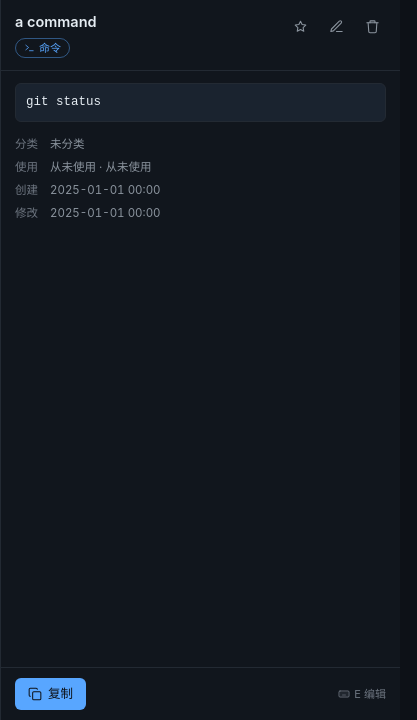
Test: ItemDetail › copies the body directly when there are no variables
This screenshot has width=417, height=720.
Click the button "复制" at (50, 694), box [15,678,86,710]
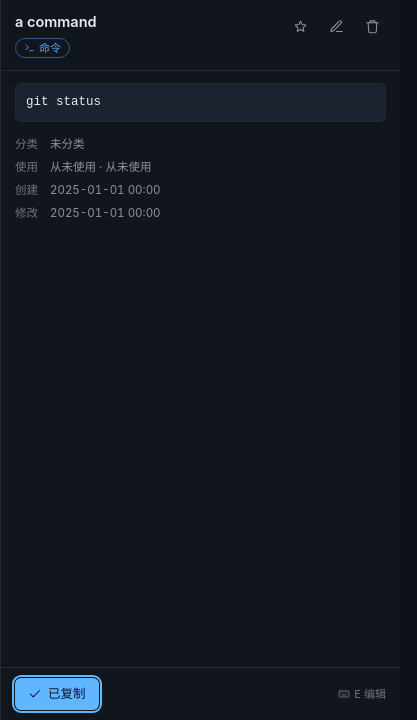
Result: the button "已复制" is shown at [15,678,98,710]
